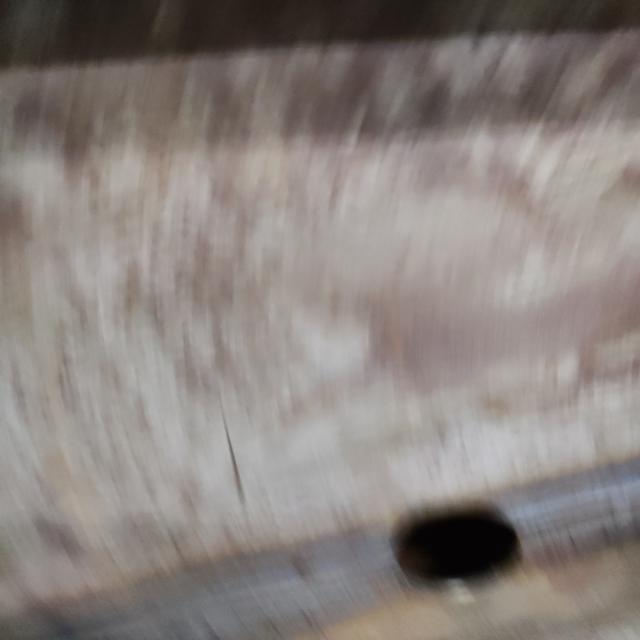seam: (0, 446, 640, 640)
